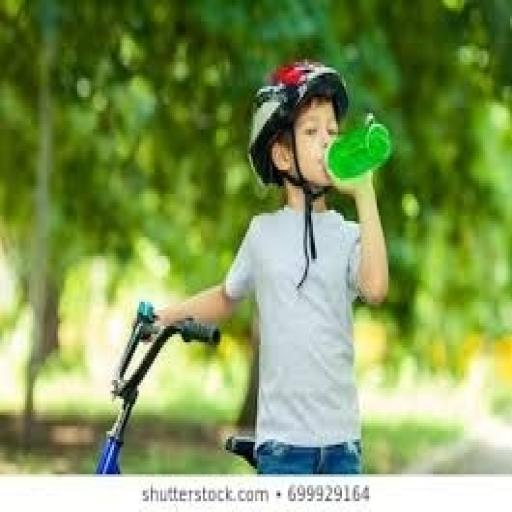drinking: (323, 110, 392, 188)
